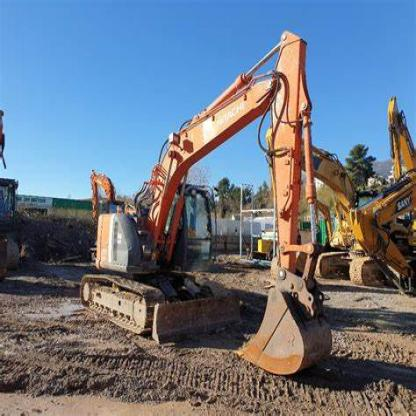excavator: (80, 20, 354, 383)
